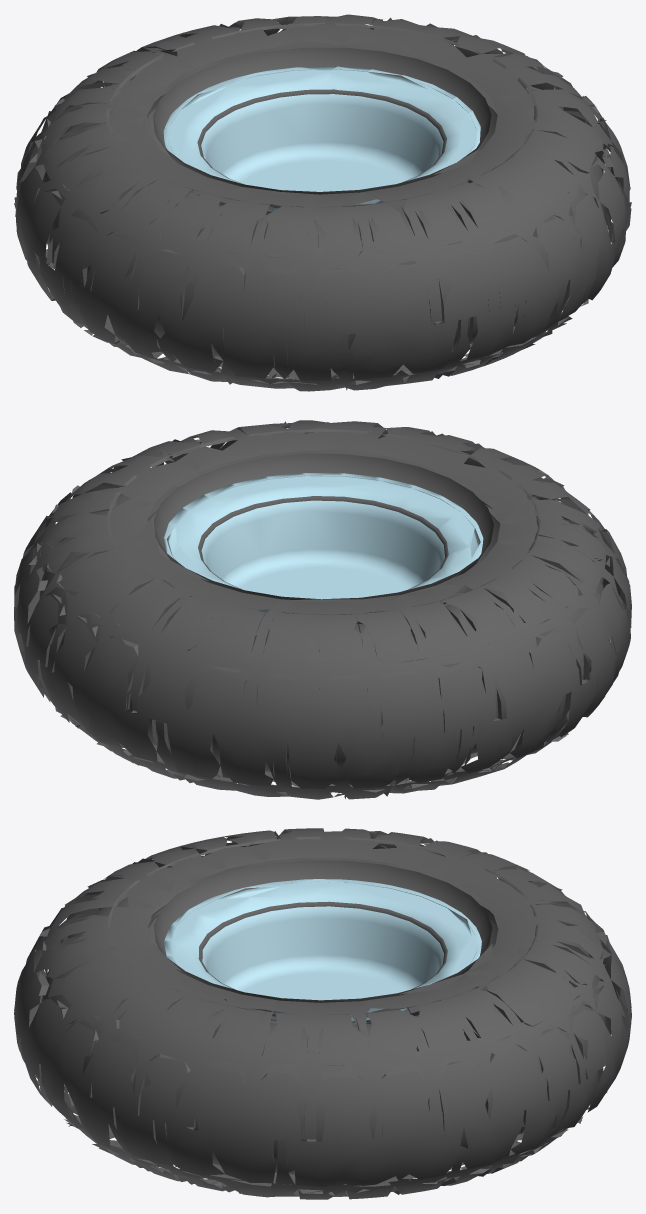
Rendered from front_right_wheel_visual.obj.
The picture shows the model from 3 angles, top to bottom: view 1: azimuth 30°, elevation 25°; view 2: azimuth 150°, elevation 25°; view 3: azimuth 270°, elevation 25°; orthographic projection.
Parts seen in each view (by area): view 1: front_right_wheel_visual; view 2: front_right_wheel_visual; view 3: front_right_wheel_visual.
Boxes of the visible parts, left/top/right/bottom form: front_right_wheel_visual: left=14, top=14, right=631, bottom=391; front_right_wheel_visual: left=14, top=420, right=631, bottom=799; front_right_wheel_visual: left=14, top=828, right=631, bottom=1199.
Size of the model in its own units: 0.255 by 0.0819 by 0.255.
